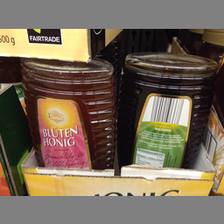honey: (19, 59, 119, 173), (124, 55, 217, 174)
